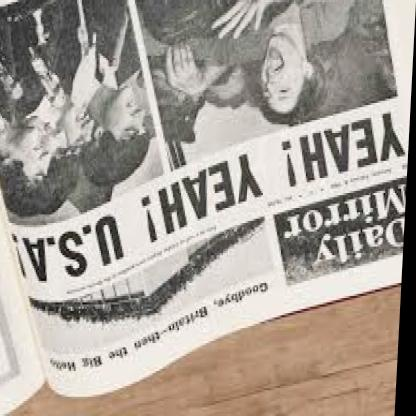Paper: (0, 0, 413, 401)
